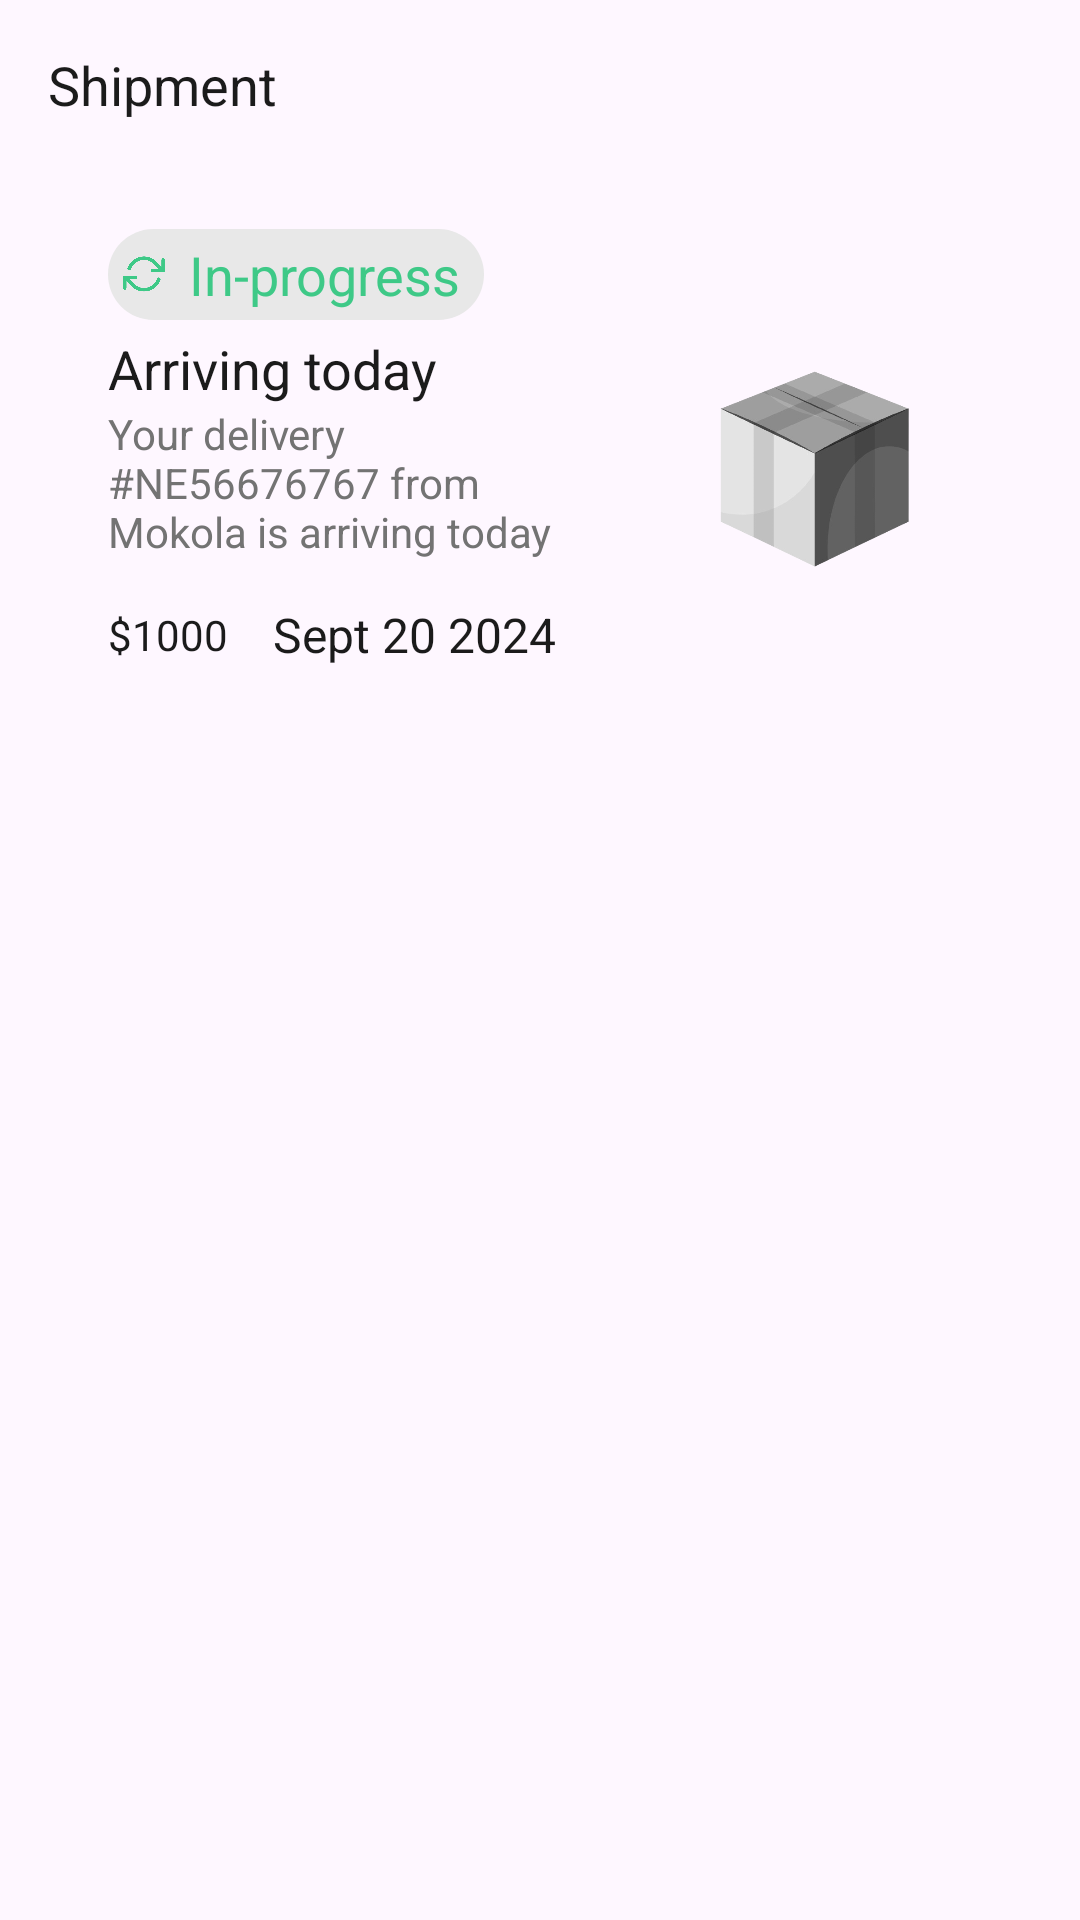

Icons on this 1080px×1920px Android screen, each with the point to tap as point (x, y):
box: point (815, 469)
loading: point (144, 273)
